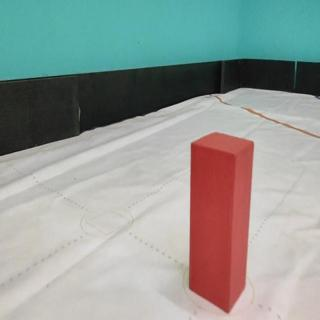redbox: (189, 133, 254, 314)
